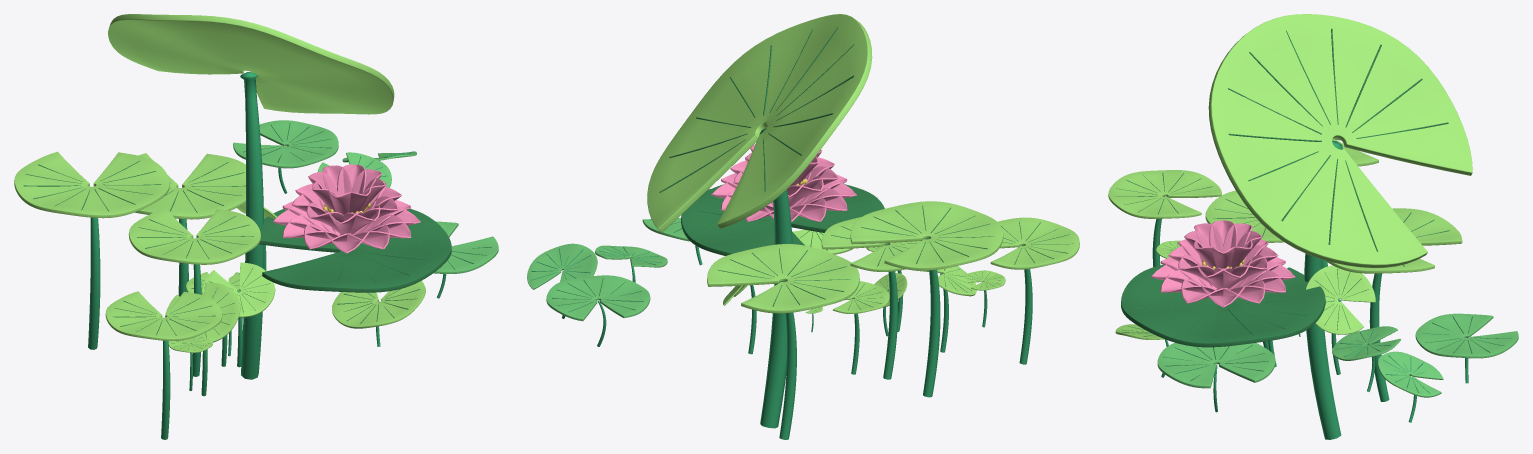
The model's file is 01_lotus_and_lilypads.glb.
3 renders of one model, left to right at view 1: azimuth 30°, elevation 25°; view 2: azimuth 150°, elevation 25°; view 3: azimuth 270°, elevation 25°, orthographic. The views are drawn at different scales.
Parts seen in each view (by area): view 1: LilyPad_02.014, LotusPad, LilyPad_02.005, LilyPad_02.013, LilyPad_02.009, LilyPad_02, PadStem_02.014, LilyPad_03, LilyPad_04, LilyPad_02.015, LilyPad_01, LilyPad_02.008 (+9 smaller); view 2: LilyPad_02.014, LilyPad_02.005, LilyPad_02, LotusPad, LilyPad_03, LilyPad_02.009, PadStem_02.014, LilyPad_05.006, LilyPad_02.013, PadStem_02.005, PadStem_02, LilyPad_02.011 (+7 smaller); view 3: LilyPad_02.014, LotusPad, LilyPad_02.009, LilyPad_01, LilyPad_03, LilyPad_02.012, PadStem_02.014, LilyPad_02, LilyPad_05.006, LilyPad_05, LilyPad_02.013, PadStem_02 (+12 smaller).
Boxes of the visible parts, x1,y1,x2,y2 form: LilyPad_02.014: (108, 14, 394, 114); LotusPad: (259, 208, 451, 292); LilyPad_02.005: (14, 151, 169, 218); LilyPad_02.013: (128, 208, 260, 264); LilyPad_02.009: (105, 291, 222, 340); LilyPad_02: (134, 153, 245, 219); PadStem_02.014: (240, 72, 264, 379); LilyPad_03: (233, 120, 338, 168); LilyPad_04: (332, 280, 425, 328); LilyPad_02.015: (202, 262, 275, 317); LilyPad_01: (433, 221, 498, 273); LilyPad_02.008: (165, 282, 240, 343); LilyPad_02.014: (647, 14, 872, 232); LilyPad_02.005: (850, 201, 1003, 270); LilyPad_02: (707, 244, 859, 313); LotusPad: (681, 184, 884, 255); LilyPad_03: (546, 275, 650, 321); LilyPad_02.009: (990, 217, 1079, 269); PadStem_02.014: (759, 128, 792, 428); LilyPad_05.006: (527, 243, 597, 289); LilyPad_02.013: (821, 217, 924, 271); PadStem_02.005: (923, 238, 940, 397); PadStem_02: (779, 281, 796, 439); LilyPad_02.011: (832, 281, 889, 313); LilyPad_02.014: (1208, 14, 1472, 267); LotusPad: (1121, 265, 1325, 347); LilyPad_02.009: (1108, 170, 1221, 218); LilyPad_01: (1157, 342, 1275, 388); LilyPad_03: (1415, 313, 1518, 358); LilyPad_02.012: (1305, 265, 1375, 334); PadStem_02.014: (1304, 140, 1342, 439); LilyPad_02: (1325, 208, 1462, 273); LilyPad_05.006: (1377, 351, 1443, 397); LilyPad_05: (1332, 326, 1400, 360); LilyPad_02.013: (1205, 190, 1283, 242); PadStem_02: (1369, 273, 1389, 401).
Bounding box in the file's own units: 6.37 × 5.65 × 5.41.
